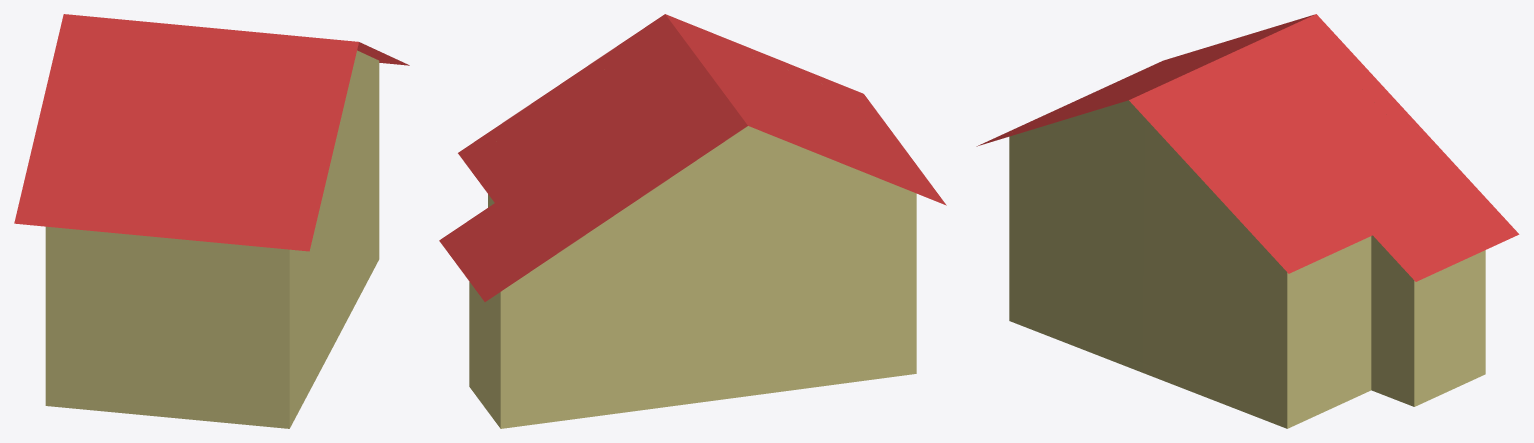
3 renders of one model, left to right at view 1: azimuth 30°, elevation 25°; view 2: azimuth 150°, elevation 25°; view 3: azimuth 270°, elevation 25°, orthographic. The views are drawn at different scales.
Bounding box in the file's own units: 15.34 × 16.95 × 9.66.
